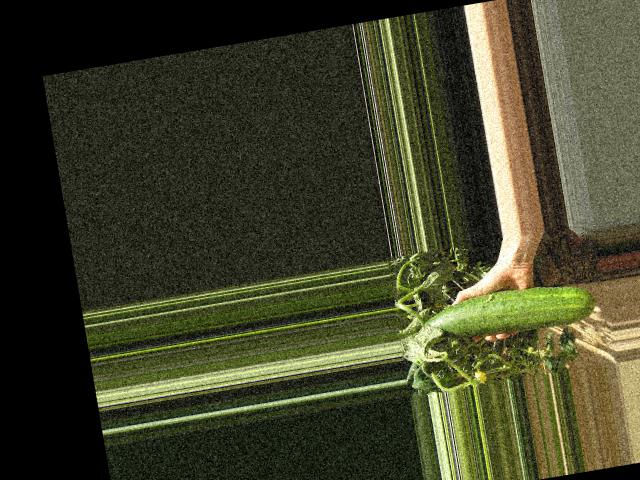cucumber: (418, 276, 598, 348)
